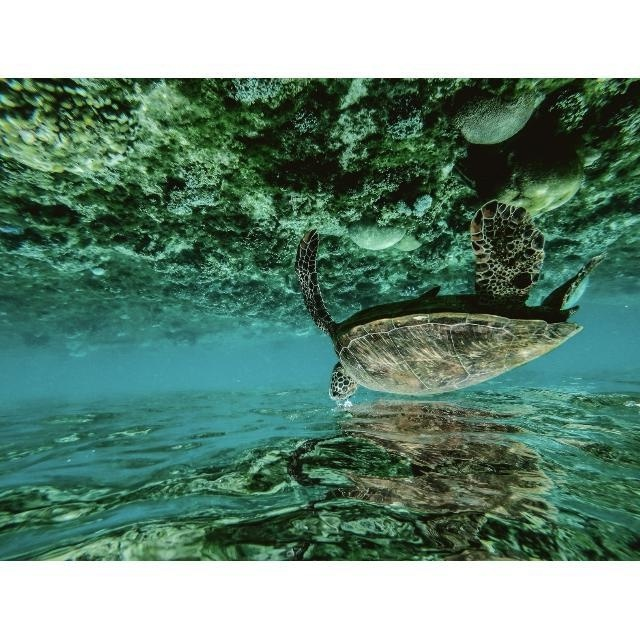turtle: (292, 198, 608, 402)
